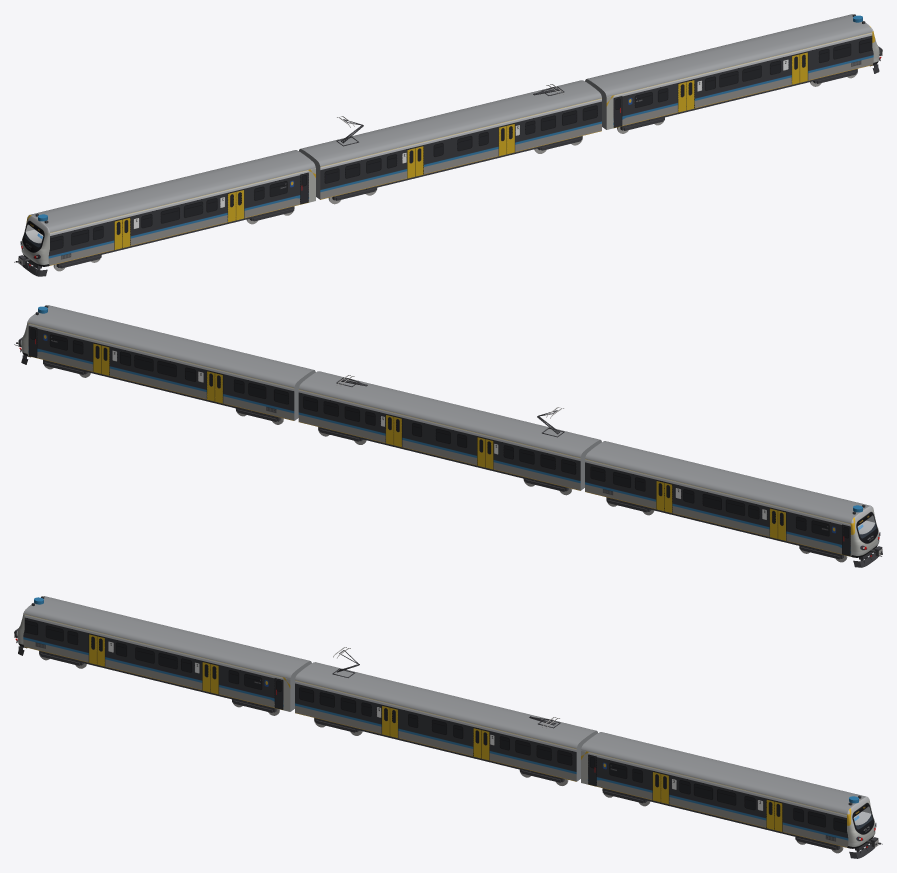
The model's file is EN57_przed_szyby.glb.
3 views of the same model, one above another, from view 1: azimuth 30°, elevation 25°; view 2: azimuth 150°, elevation 25°; view 3: azimuth 330°, elevation 25° (orthographic).
Parts seen in each view (by area): view 1: EN57_pudlo_2, EN57_pudlo_1, EN57_pudlo_3; view 2: EN57_pudlo_2, EN57_pudlo_1, EN57_pudlo_3; view 3: EN57_pudlo_2, EN57_pudlo_3, EN57_pudlo_1.
Part boxes in pixels (x1,y1,x2,y2): EN57_pudlo_2: (299, 80, 601, 199); EN57_pudlo_1: (21, 150, 315, 266); EN57_pudlo_3: (585, 14, 879, 129); EN57_pudlo_2: (298, 371, 601, 490); EN57_pudlo_1: (585, 441, 879, 557); EN57_pudlo_3: (21, 305, 315, 420); EN57_pudlo_2: (295, 662, 597, 781); EN57_pudlo_3: (581, 732, 875, 848); EN57_pudlo_1: (17, 596, 311, 711).
Bounding box in the file's own units: 67.06 × 5.6 × 2.88.
17 materials, 1 textured.
